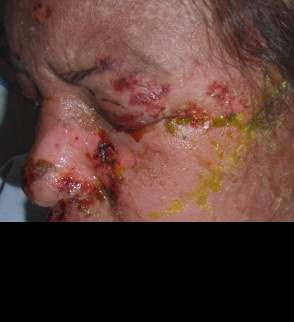SJS-TEN: (20, 52, 294, 224), (4, 0, 59, 66)
